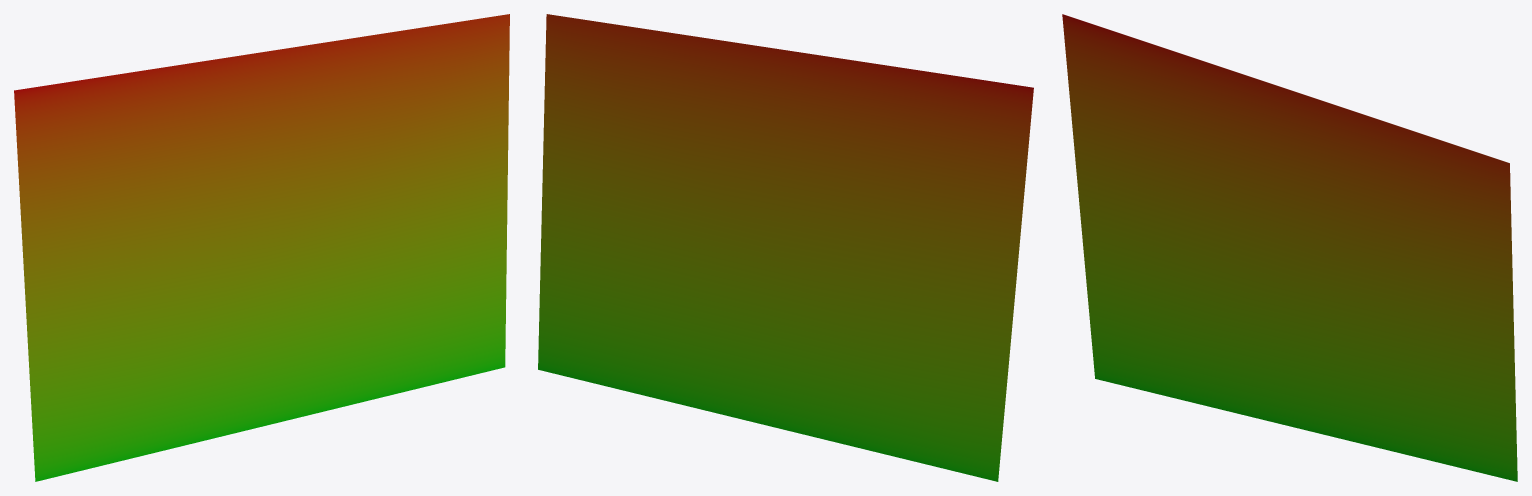
The model's file is Var1_LOD3.fbx.
3 views of the same model, side by side, from view 1: azimuth 30°, elevation 25°; view 2: azimuth 150°, elevation 25°; view 3: azimuth 330°, elevation 25° (orthographic). The views are drawn at different scales.
Visible parts, largest first — view 1: _ed81_Var1_LOD3; view 2: _ed81_Var1_LOD3; view 3: _ed81_Var1_LOD3.
Part boxes in pixels (x1=…): _ed81_Var1_LOD3: x1=14, y1=14, x2=509, y2=481; _ed81_Var1_LOD3: x1=538, y1=14, x2=1033, y2=481; _ed81_Var1_LOD3: x1=1062, y1=14, x2=1517, y2=481.
Size of the model in its own units: 46.21 by 35.77 by 1.22.
